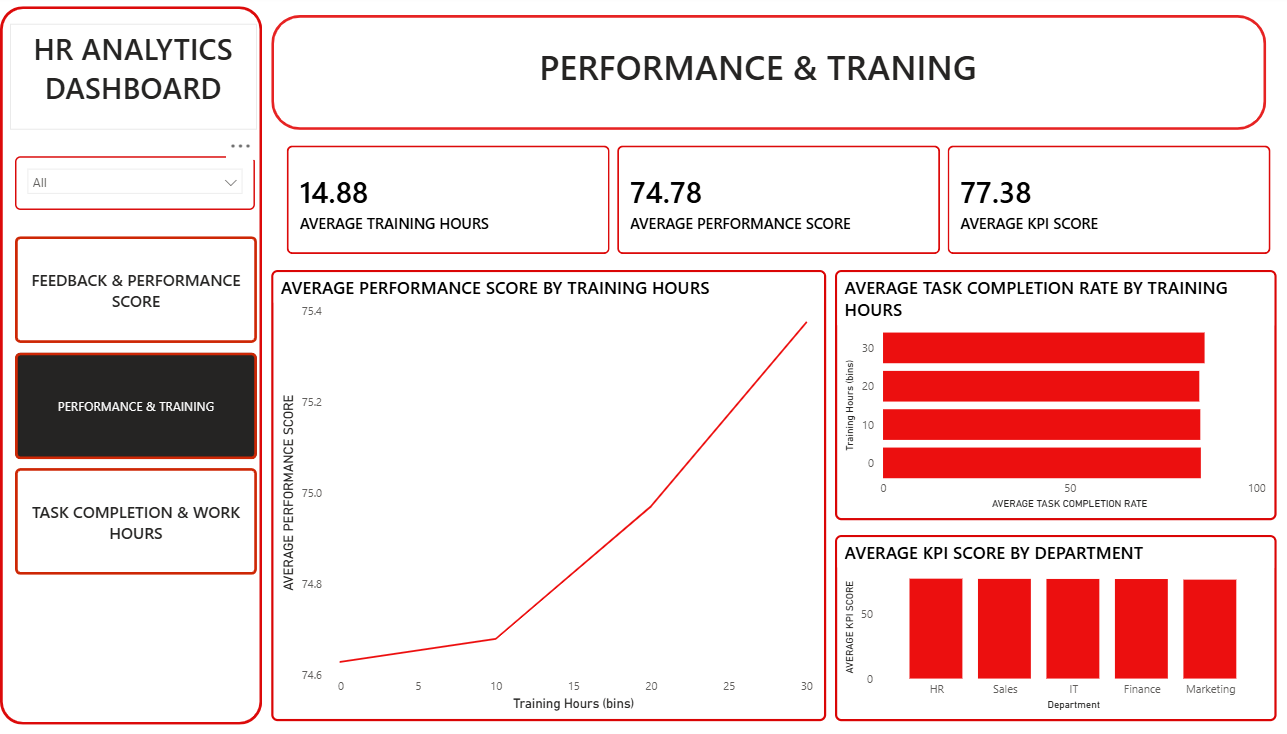

The page's visual inventory and layout, read from the dashboard file:
{"tool":"powerbi","page":{"name":"PERFORMANCE & TRAINING","canvas":[1400,800],"ordinal":1},"visuals":[{"type":"lineChart","title":"AVERAGE PERFORMANCE SCORE BY TRAINING HOURS","fields":{"Category":["Employee_Performance_Dataset.Training Hours (bins)"],"Y":["Employee_Performance_Dataset.AVERAGE PERFORMANCE SCORE"]},"box":[294.8,293.5,603.3,490.5],"z":0},{"type":"shape","box":[0,6.8,285,781],"z":1000},{"type":"clusteredColumnChart","title":"AVERAGE KPI SCORE BY DEPARTMENT","fields":{"Category":["Employee_Performance_Dataset.Department"],"Y":["Employee_Performance_Dataset.AVERAGE KPI SCORE"]},"box":[907.6,581.5,479.6,202.4],"z":2000},{"type":"barChart","title":"AVERAGE TASK COMPLETION RATE BY TRAINING HOURS","fields":{"Category":["Employee_Performance_Dataset.Training Hours (bins)"],"Y":["Employee_Performance_Dataset.AVERAGE TASK COMPLETION RATE"]},"box":[907.6,293.5,479.6,271.7],"z":3000},{"type":"cardVisual","fields":{"Data":["Employee_Performance_Dataset.AVERAGE TRAINING HOURS","Employee_Performance_Dataset.AVERAGE PERFORMANCE SCORE","Employee_Performance_Dataset.AVERAGE KPI SCORE"]},"box":[294.8,141.3,1104.6,152.2],"z":4000},{"type":"slicer","fields":{"Values":["Employee_Performance_Dataset.Job Role"]},"box":[16.3,169.8,260.9,58.4],"z":5000},{"type":"textbox","box":[10.9,25.8,267.7,115.5],"z":6000},{"type":"pageNavigator","box":[16.3,256.8,263,369.6],"z":7000},{"type":"shape","box":[294.8,16.3,1081.5,125],"z":8000},{"type":"textbox","box":[528.5,42.1,591,69.3],"z":9000}]}

Visuals, with their boxes in screenshot pixels (x1, y1, x2, y2), scaled from the page's 1400x800 canvas onto the 1287x734 screenshot:
"AVERAGE PERFORMANCE SCORE BY TRAINING HOURS" lineChart: bbox=[271, 269, 826, 719]
shape: bbox=[0, 6, 262, 723]
"AVERAGE KPI SCORE BY DEPARTMENT" clusteredColumnChart: bbox=[834, 534, 1275, 719]
"AVERAGE TASK COMPLETION RATE BY TRAINING HOURS" barChart: bbox=[834, 269, 1275, 519]
cardVisual - Employee_Performance_Dataset.AVERAGE TRAINING HOURS x Employee_Performance_Dataset.AVERAGE PERFORMANCE SCORE: bbox=[271, 130, 1286, 269]
slicer - Employee_Performance_Dataset.Job Role: bbox=[15, 156, 255, 209]
textbox: bbox=[10, 24, 256, 130]
pageNavigator: bbox=[15, 236, 257, 575]
shape: bbox=[271, 15, 1265, 130]
textbox: bbox=[486, 39, 1029, 102]
